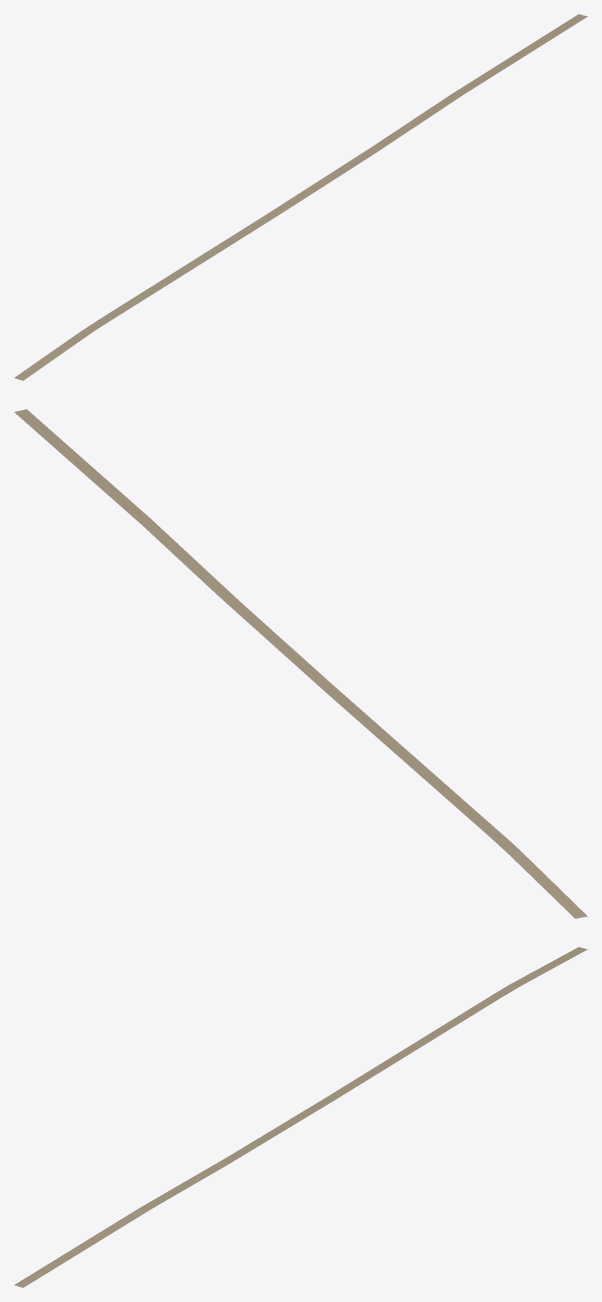
File: farm_-31_-22_track.glb
3 views of the same model, one above another, from view 1: azimuth 90°, elevation 25°; view 2: azimuth 150°, elevation 25°; view 3: azimuth 270°, elevation 25° (orthographic). The views are drawn at different scales.
Visible parts, largest first — view 1: geometry_0; view 2: geometry_0; view 3: geometry_0.
Part boxes in pixels (<box>): geometry_0: <box>14,14,587,380</box>; geometry_0: <box>14,409,587,918</box>; geometry_0: <box>14,947,587,1287</box>.
Size of the model in its own units: 247 by 4.26 by 169.
